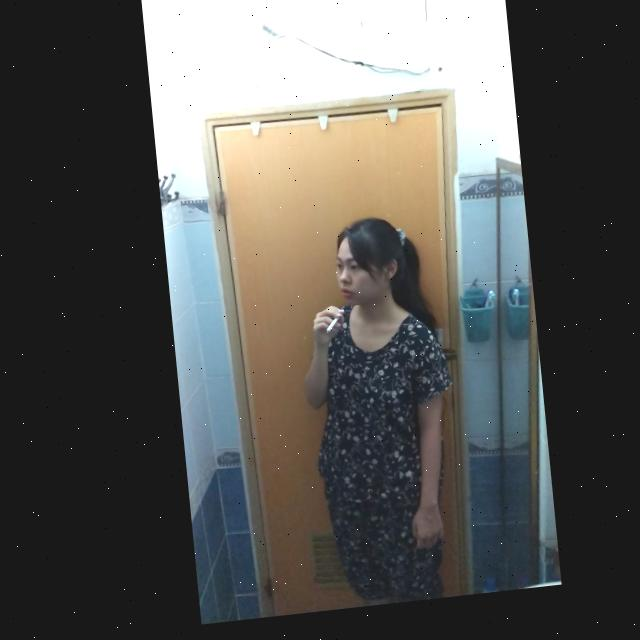cigarette: (317, 316, 339, 339)
